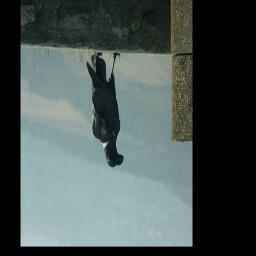Crow: (86, 52, 125, 169)
